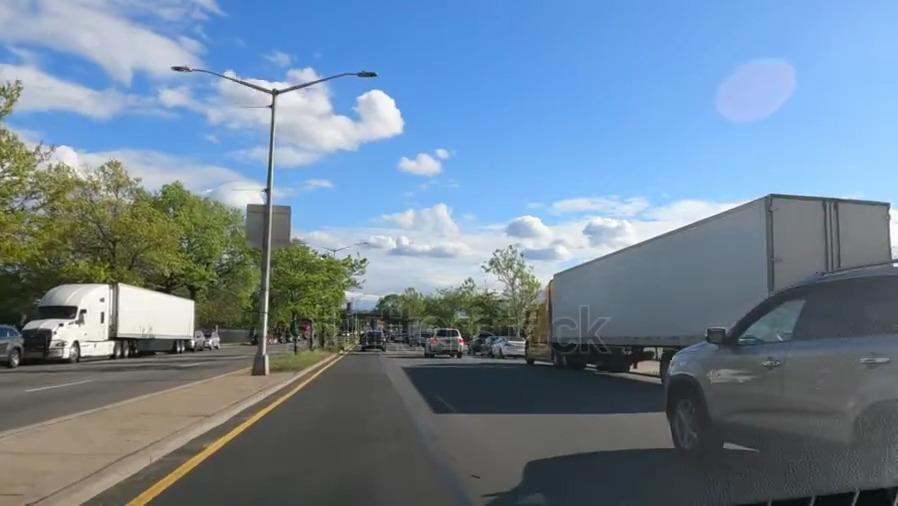car: (678, 274, 898, 471), (424, 329, 463, 357), (1, 323, 22, 367), (497, 336, 526, 358), (362, 330, 384, 351), (469, 332, 487, 352), (205, 331, 220, 350), (483, 337, 497, 357), (192, 331, 205, 349)
truck: (527, 198, 888, 353), (25, 279, 197, 359)
wheel: (669, 389, 705, 457)
